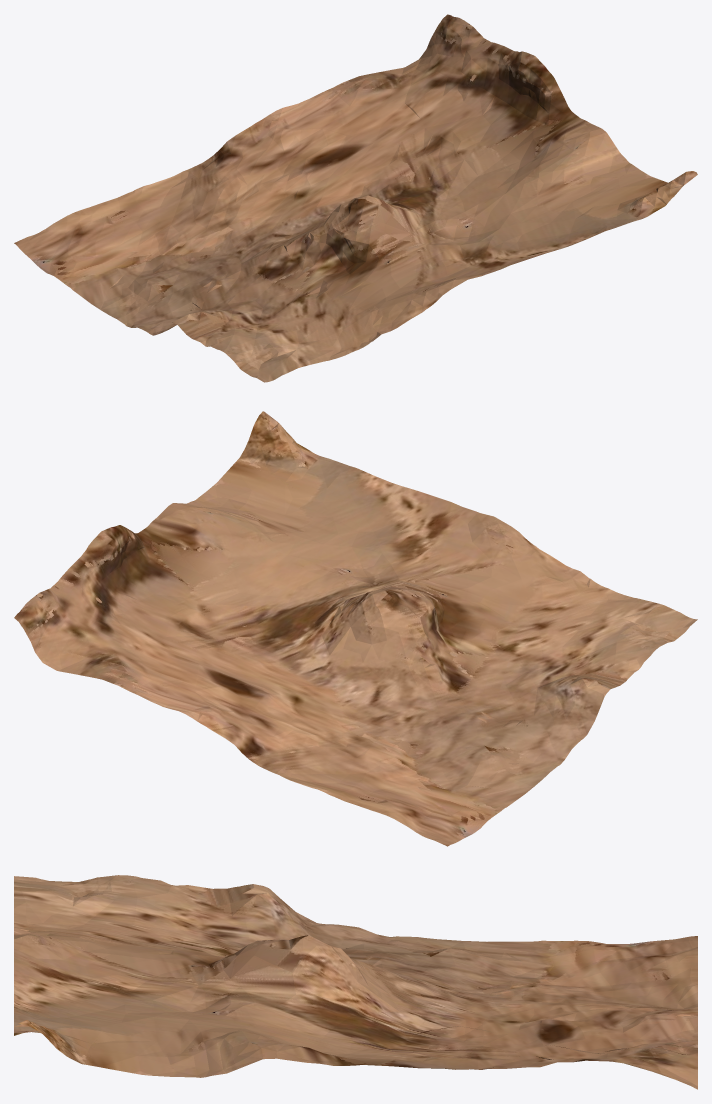
The picture shows the model from 3 angles, top to bottom: view 1: azimuth 30°, elevation 25°; view 2: azimuth 150°, elevation 25°; view 3: azimuth 270°, elevation 25°; orthographic projection. The views are drawn at different scales.
Size of the model in its own units: 1.04 by 0.3531 by 1.04.
Materials: 3 (3 with a texture image).
